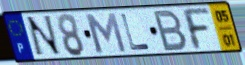8: (57, 12, 85, 58)
B: (152, 8, 189, 53)
F: (179, 7, 212, 52)
L: (119, 13, 152, 52)
M: (82, 11, 129, 55)
N: (24, 14, 64, 59)
